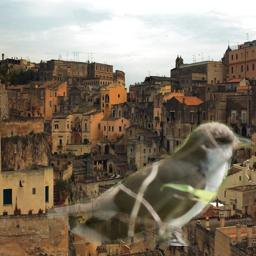Cuckoo: (47, 120, 255, 246)
